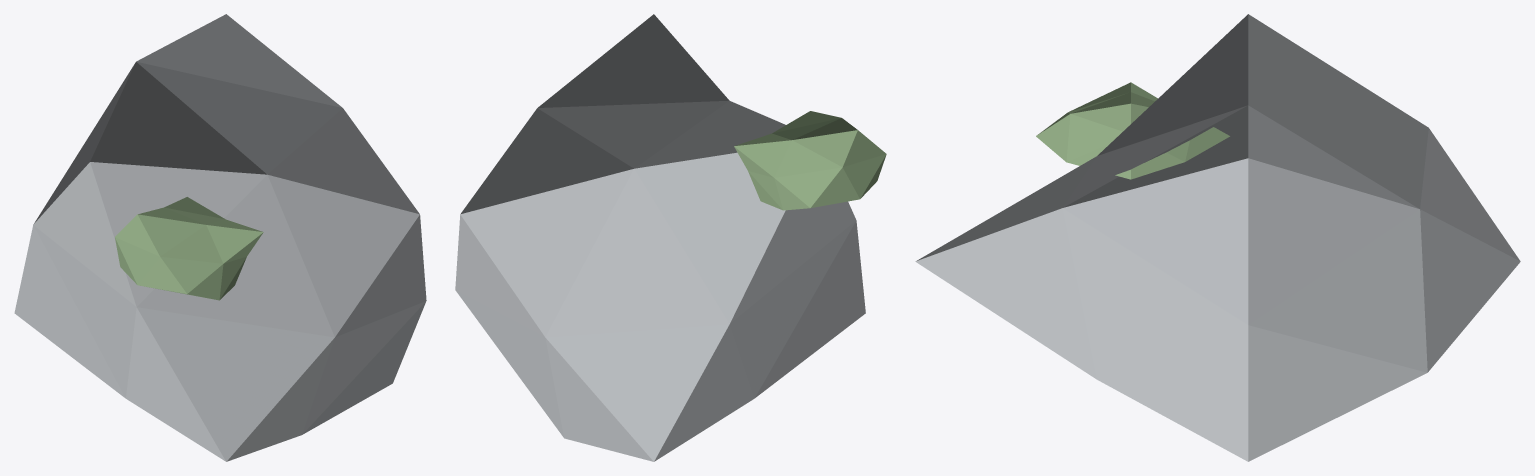
Rendered from boulder_v35.glb.
3 views of the same model, side by side, from view 1: azimuth 30°, elevation 25°; view 2: azimuth 150°, elevation 25°; view 3: azimuth 270°, elevation 25° (orthographic).
Parts seen in each view (by area): view 1: lod0; view 2: lod0; view 3: lod0.
Boxes of the visible parts, <box> form: lod0: <box>14,14,426,461</box>; lod0: <box>455,14,886,461</box>; lod0: <box>915,14,1520,461</box>.
Size of what is drawn, in the model's own units: 2.08 by 2.19 by 2.68.
